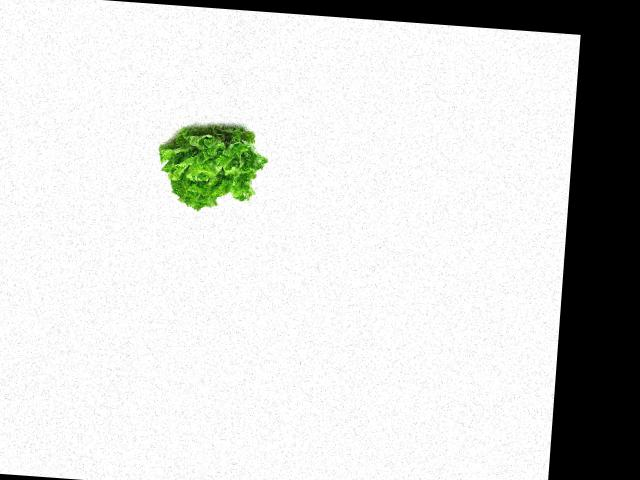lettuce: (157, 118, 268, 214)
